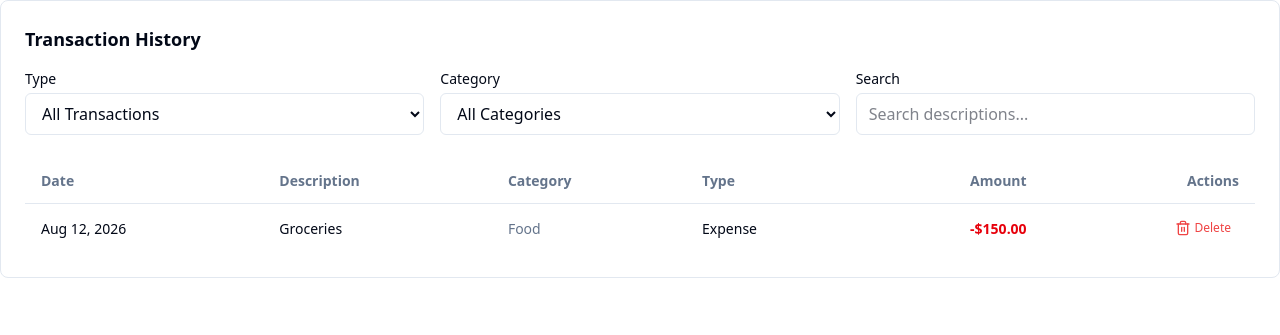
Test case: TransactionHistory › clears filters when clear button is clicked
This screenshot has width=1280, height=335.
# Apply a filter
Select "Expense" in the dropdown labelled "Type" at (225, 114), box x1=25 y1=93 x2=424 y2=135
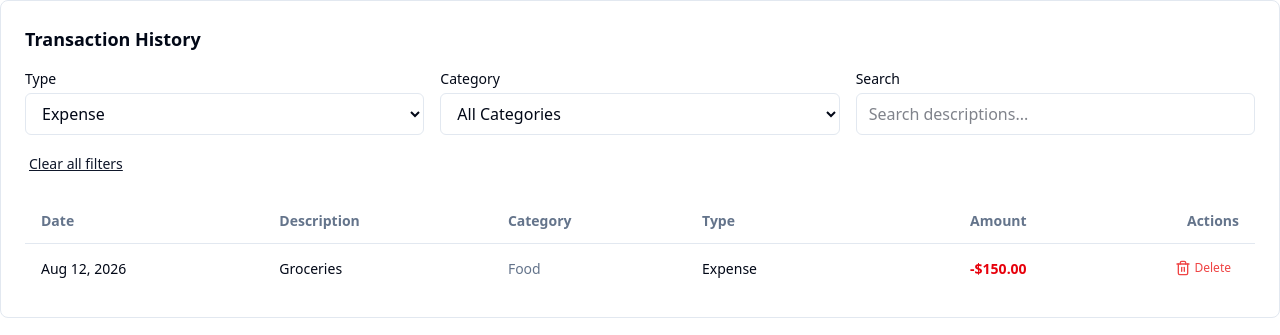
Expected: the button "Clear all filters" is shown
# Click clear button
Click the button "Clear all filters".
click(76, 164)  # box x1=25 y1=154 x2=127 y2=174
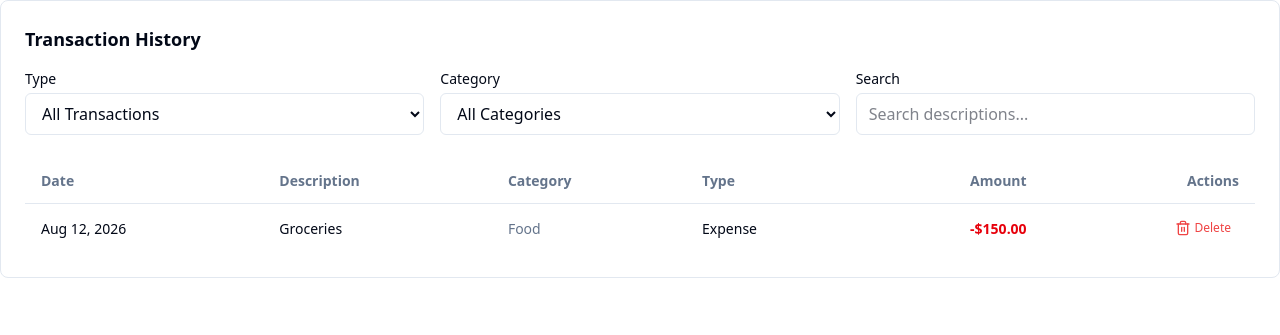
Expected: the button "Clear all filters" is gone
